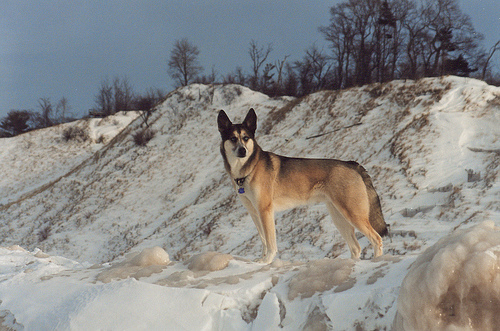dog: (213, 105, 394, 269)
